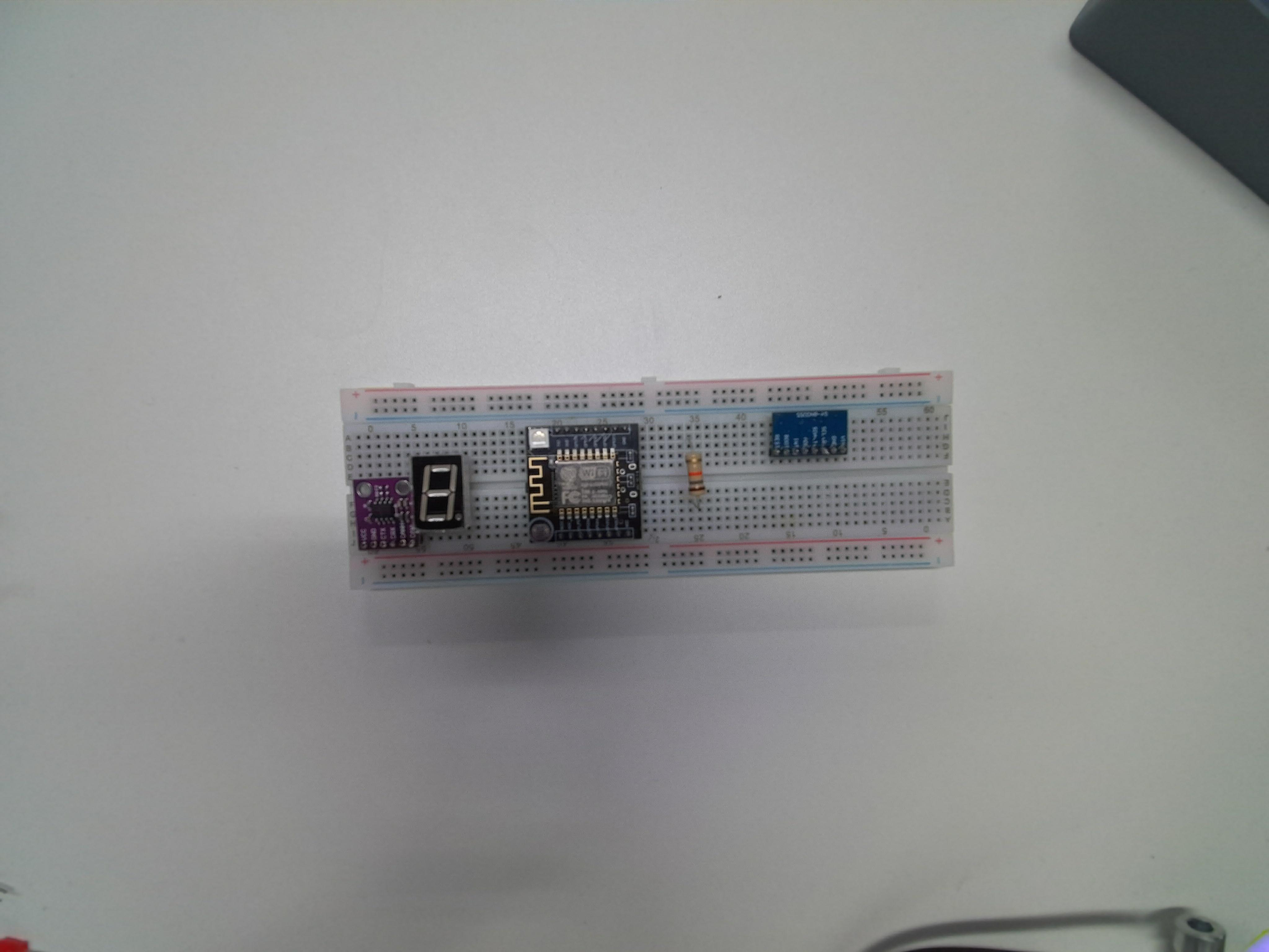base: (341, 373, 957, 594)
blue-board: (770, 408, 849, 461)
digit-board: (410, 452, 468, 530)
esp: (525, 420, 643, 547)
purple-board: (351, 476, 415, 552)
resistor-big: (682, 448, 708, 500)
